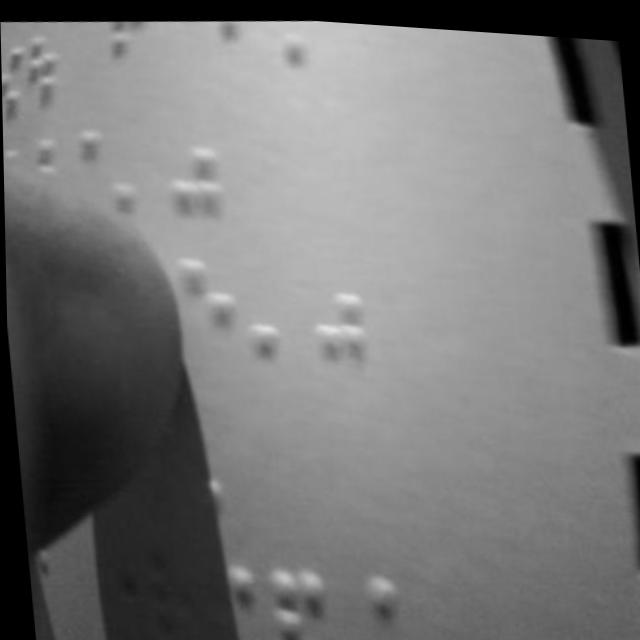braiile: (160, 133, 228, 252), (305, 279, 373, 398)
